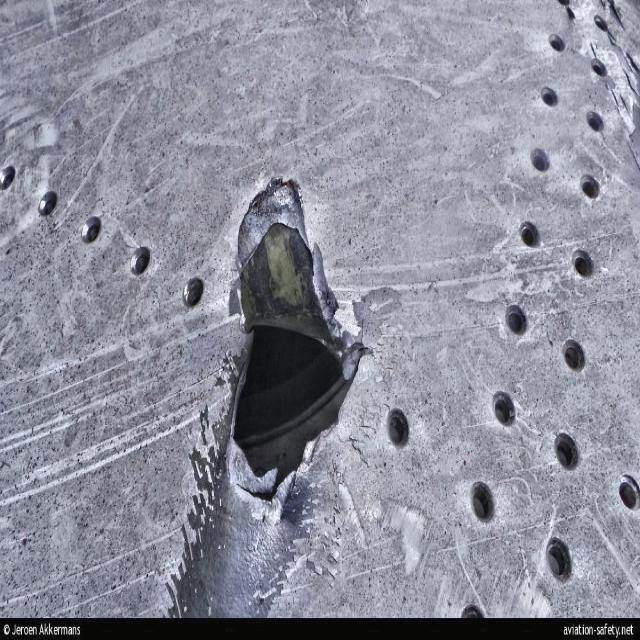crack: (221, 175, 378, 520)
